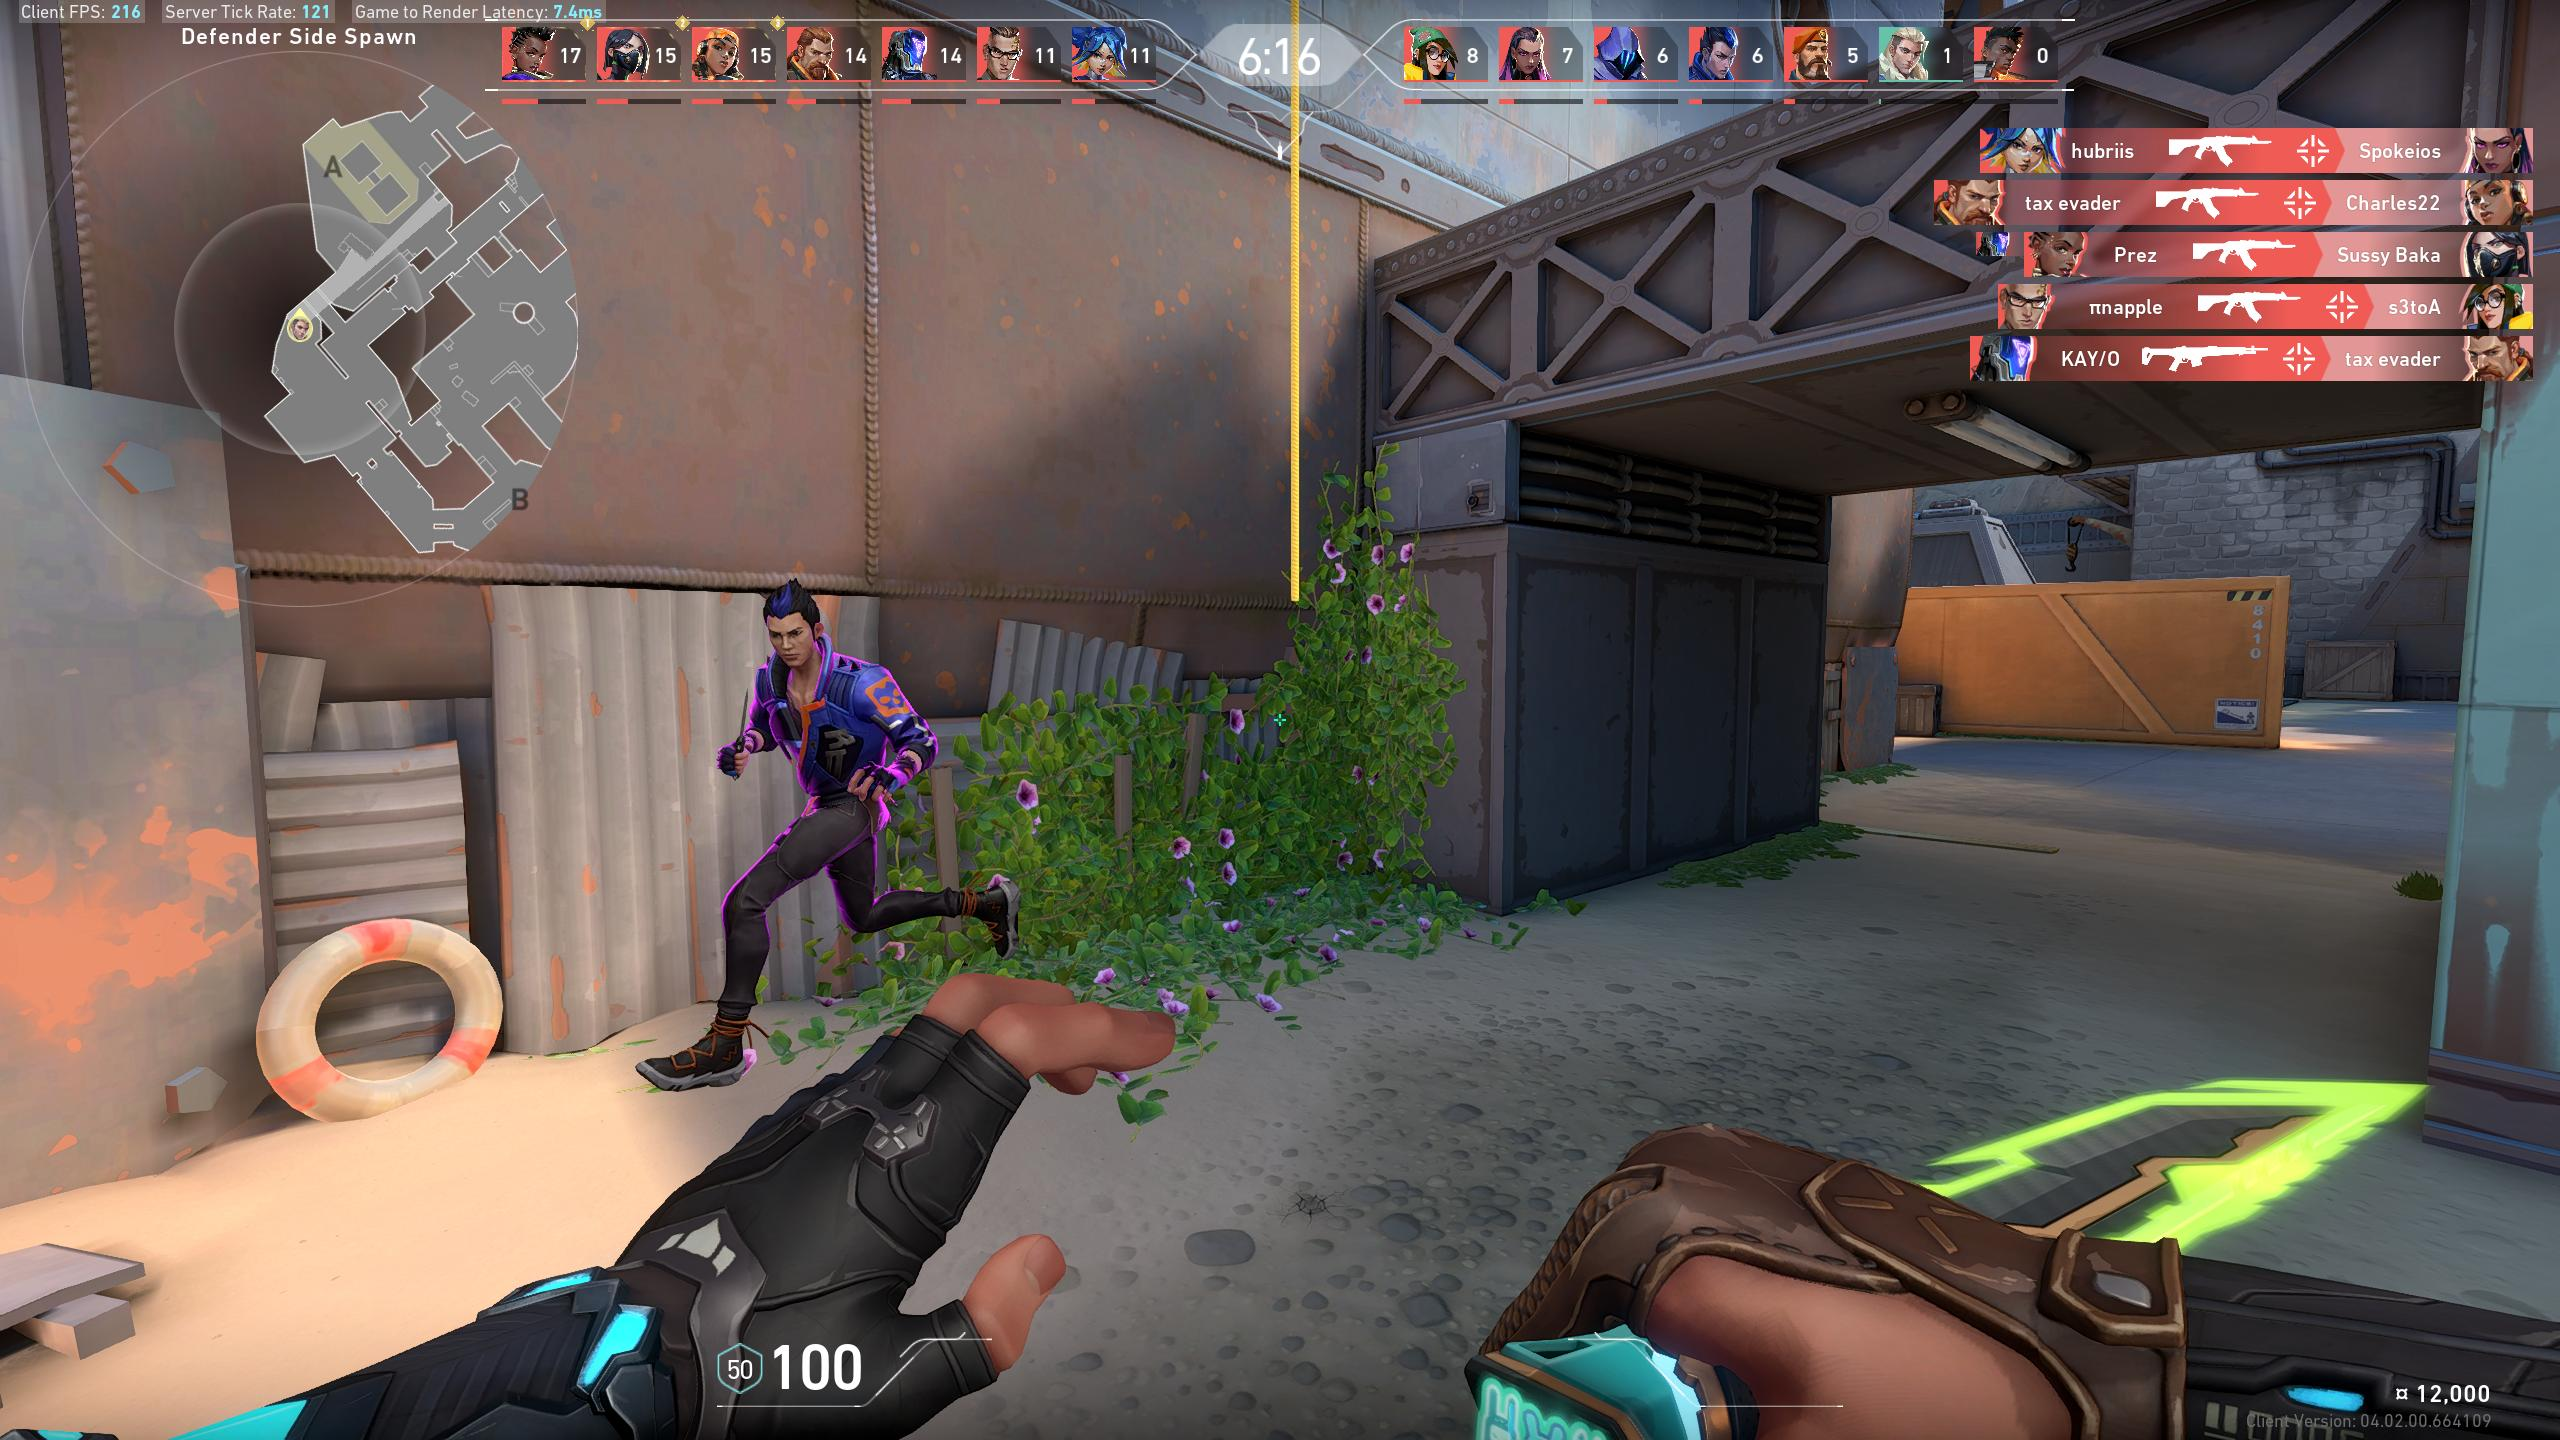enemyBody: (789, 679, 877, 784)
enemyHead: (772, 608, 814, 659)
